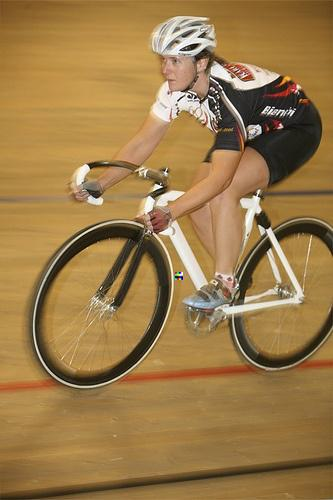car: (25, 158, 333, 394)
person: (71, 14, 322, 316)
